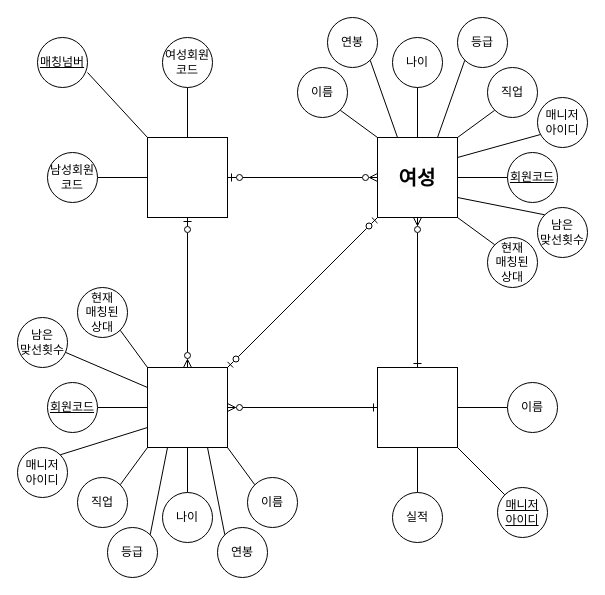
The diagram is 605 pixels wide and 595 high, and some of its shapes have lost their labels. Each missing label, with the box of its shape:
남성: (146, 366, 228, 448)
매칭 history: (146, 136, 228, 218)
커플 매니저: (376, 366, 458, 448)
